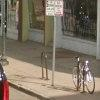Bicycle: (67, 52, 96, 95)
